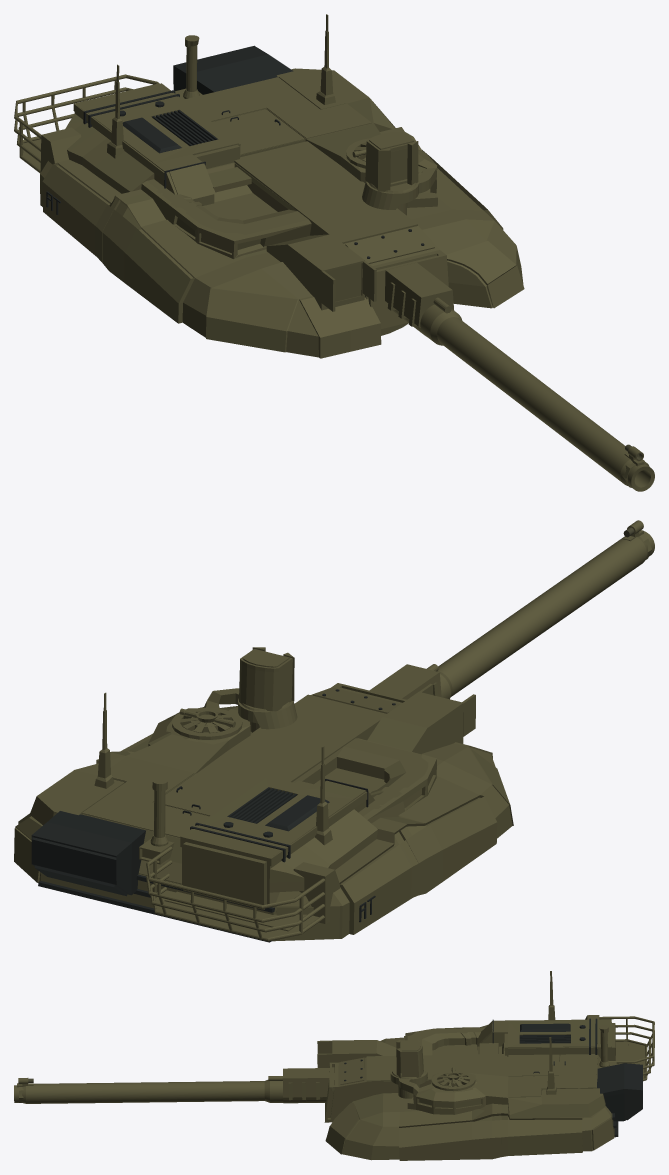
Rendered from LeclercTurret.obj.
3 renders of one model, top to bottom at view 1: azimuth 30°, elevation 25°; view 2: azimuth 150°, elevation 25°; view 3: azimuth 270°, elevation 25°, orthographic. The views are drawn at different scales.
Parts seen in each view (by area): view 1: turret_stuff.001; view 2: turret_stuff.001; view 3: turret_stuff.001.
Part boxes in pixels (box(x1,y1,x2,y2)): turret_stuff.001: box(14, 14, 654, 491); turret_stuff.001: box(14, 520, 654, 942); turret_stuff.001: box(14, 971, 654, 1160).
Bounding box in the file's own units: 2 × 1.15 × 5.33.
